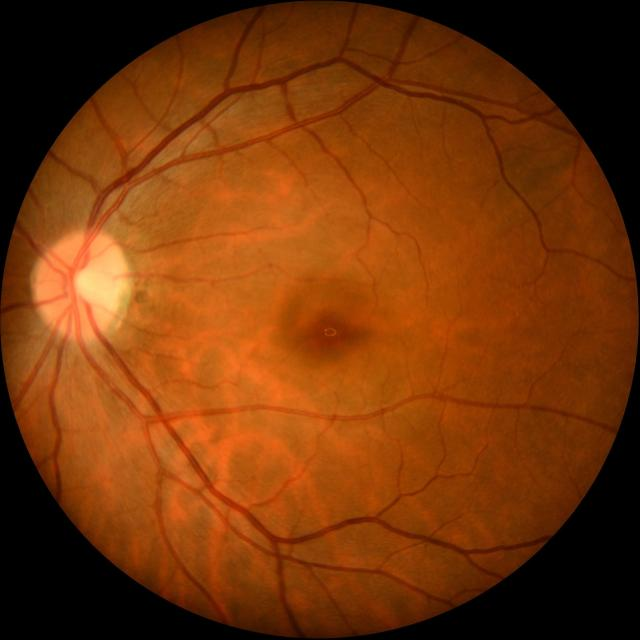OC: (73, 264, 111, 304)
OD: (34, 230, 129, 336)
